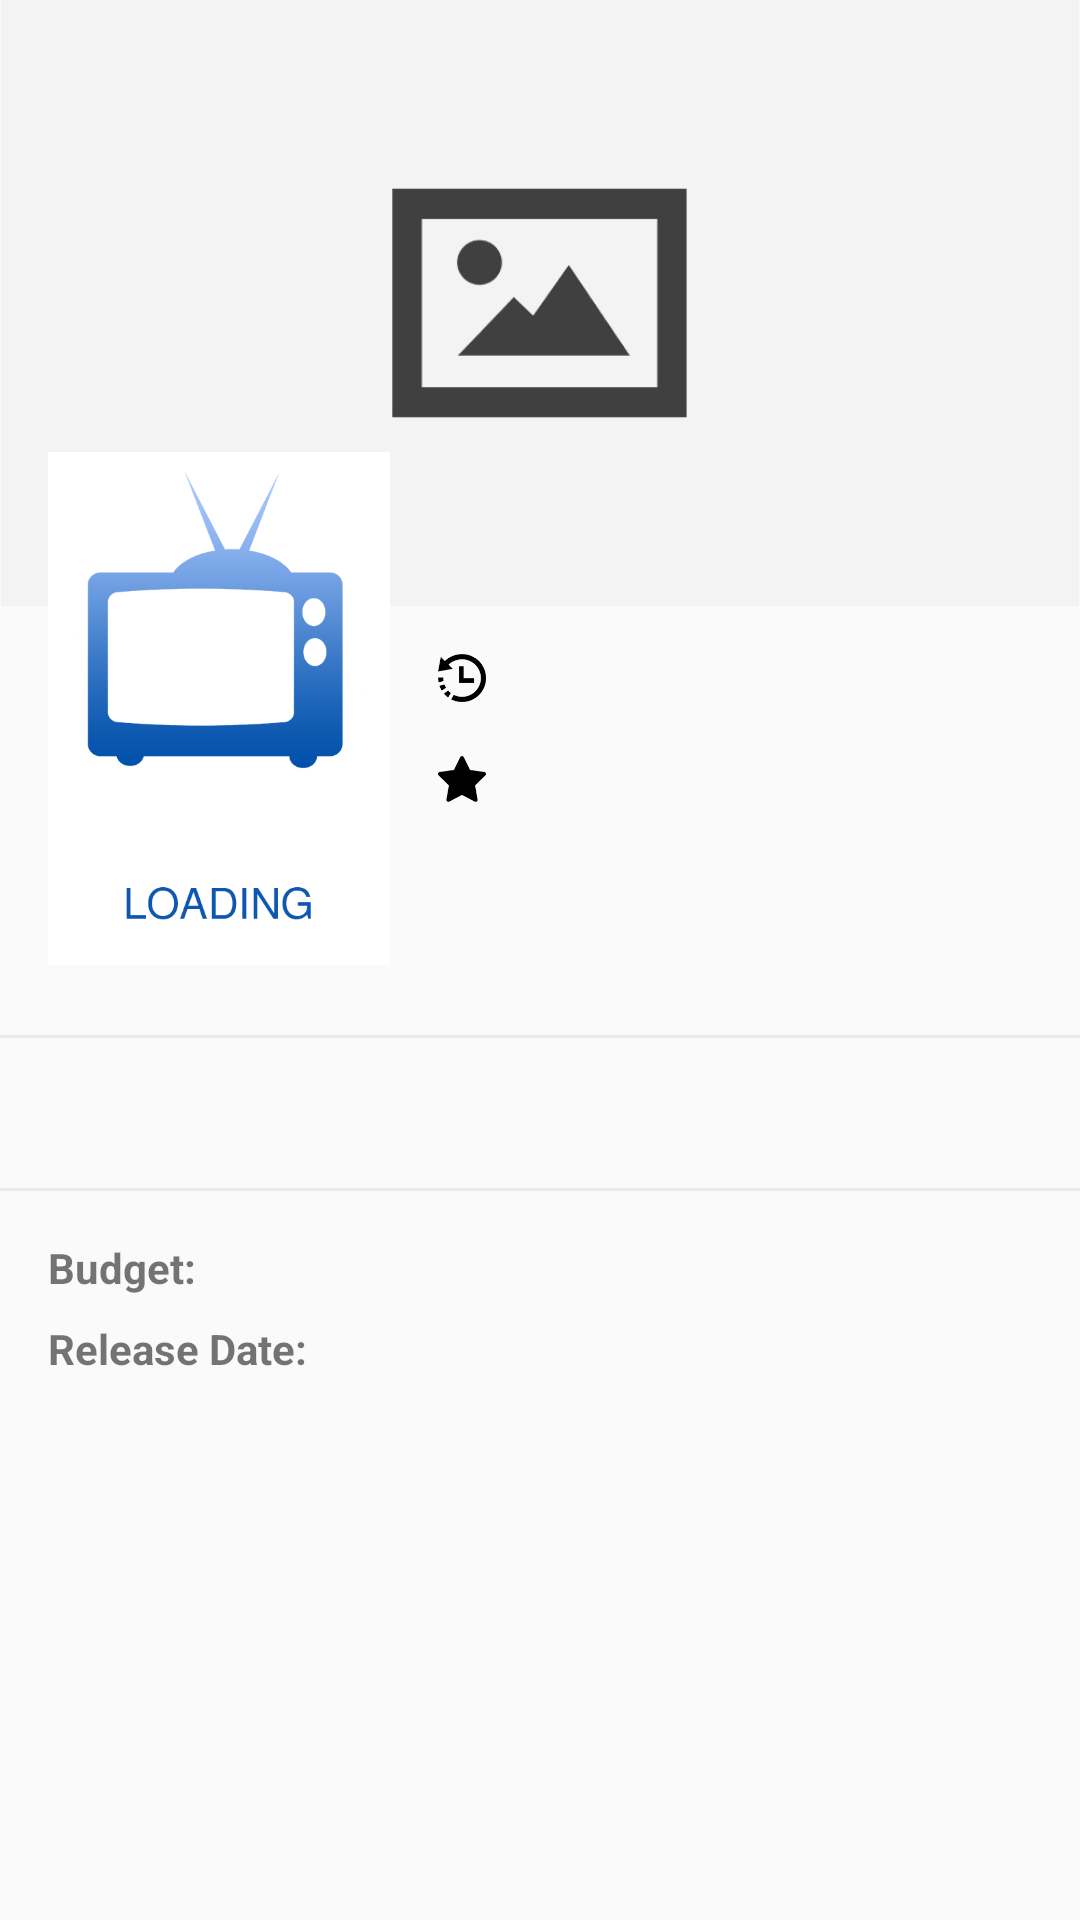

Named icons in this screenshot (1080px×1920px) and their bounding boxes, box=[x1, y1, x2, y2]:
Clock Icon: box=[438, 654, 486, 702]
Star Icon: box=[438, 756, 486, 802]
